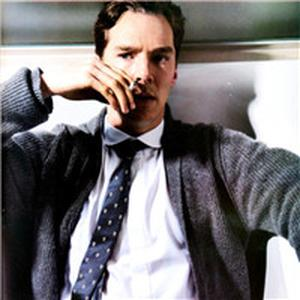cigarette: (125, 76, 140, 93)
